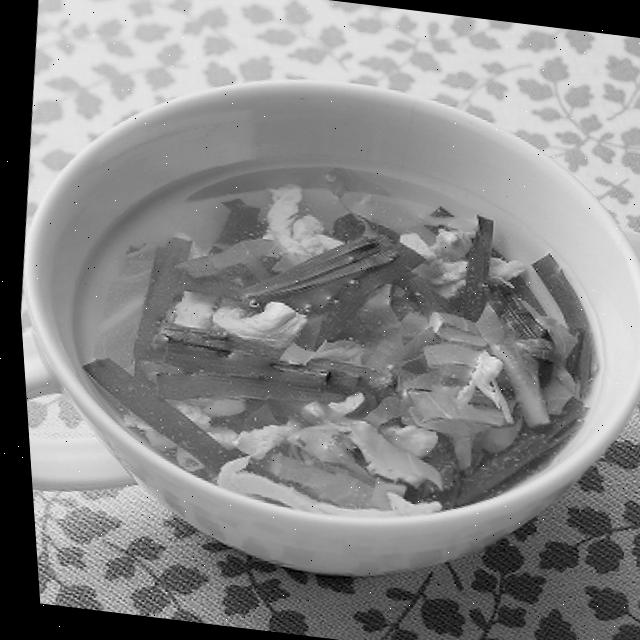汤锅炖物: (2, 37, 640, 613)
